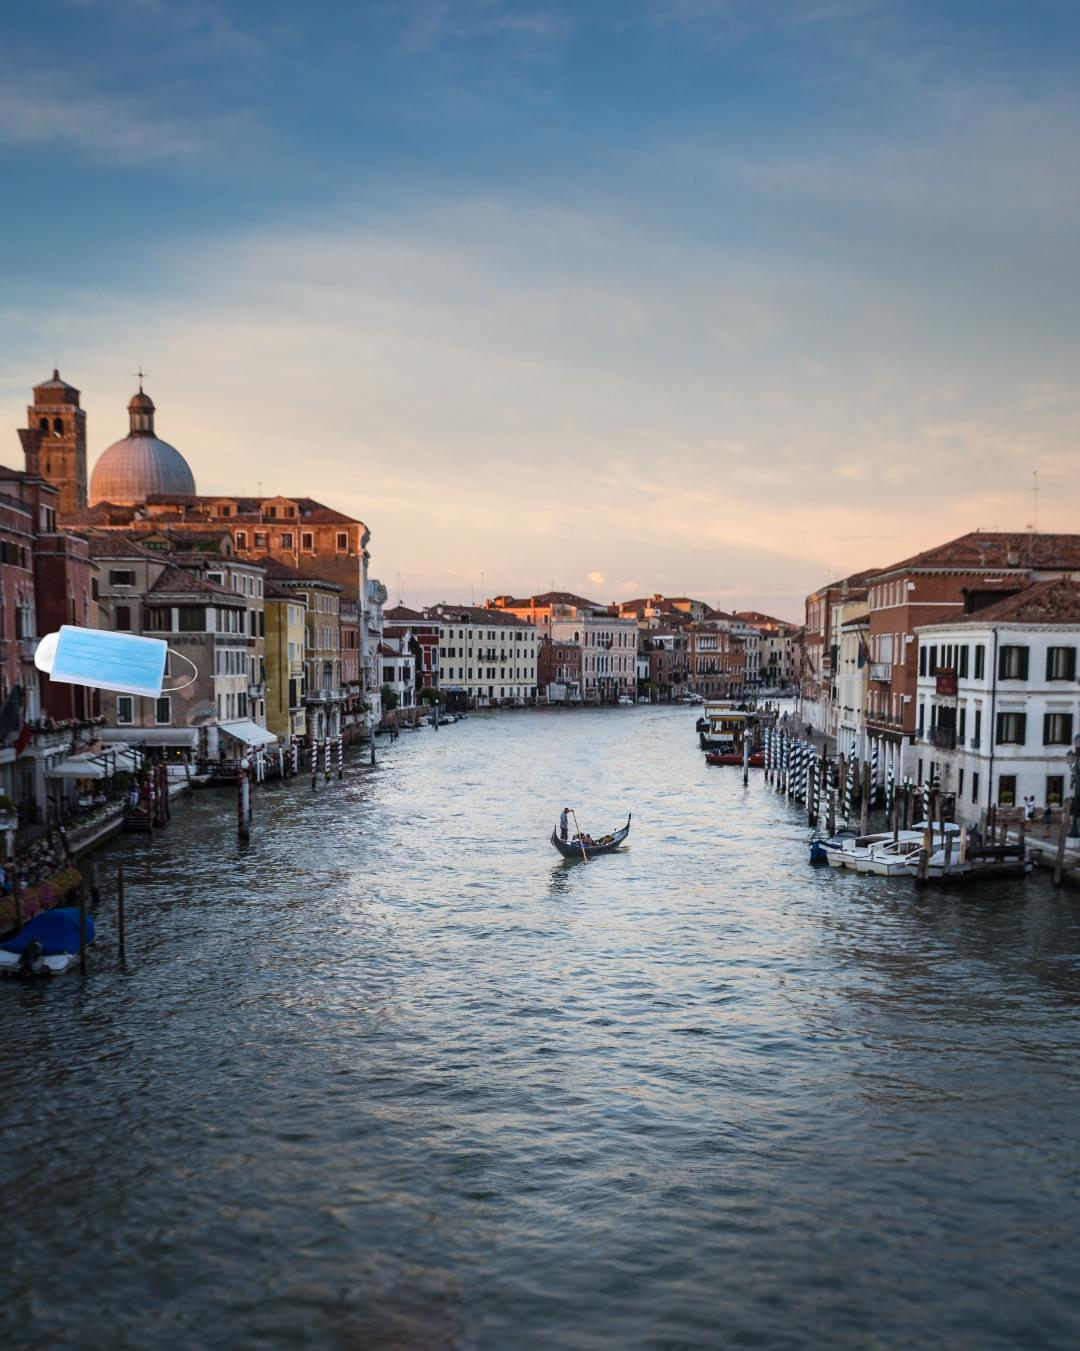trash: (31, 622, 201, 702)
